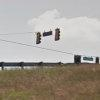Traffic light: (26, 25, 66, 49)
